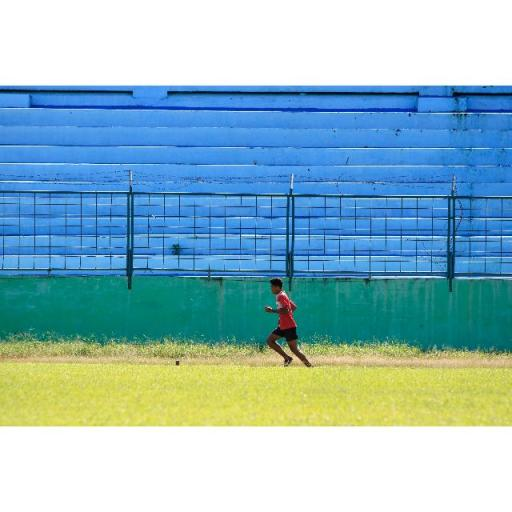Running: (254, 270, 320, 374)
